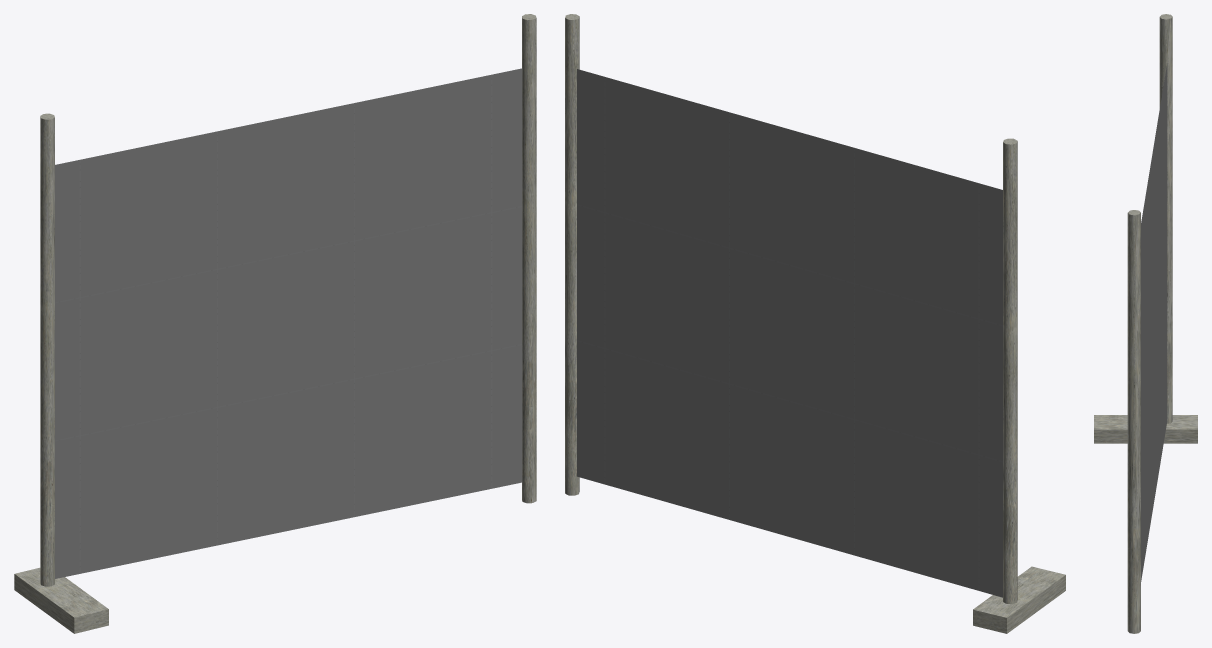
Rendered from CT_Fence_01.fbx.
3 renders of one model, left to right at view 1: azimuth 30°, elevation 25°; view 2: azimuth 150°, elevation 25°; view 3: azimuth 270°, elevation 25°, orthographic. The views are drawn at different scales.
Visible parts, largest first — view 1: CT_Fence_01; view 2: CT_Fence_01; view 3: CT_Fence_01.
Part boxes in pixels (x1,y1,x2,y2): CT_Fence_01: (14, 14, 536, 633); CT_Fence_01: (565, 14, 1065, 633); CT_Fence_01: (1094, 14, 1197, 633).
Size of the model in its own units: 367 by 350 by 78.61.
